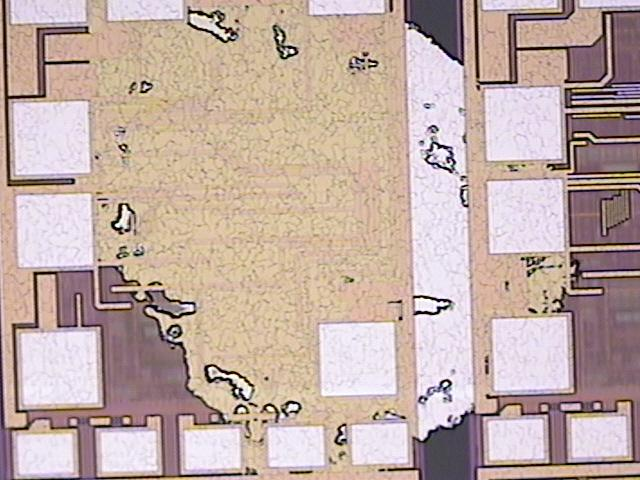BLOCK ETCH: (82, 1, 587, 477)
